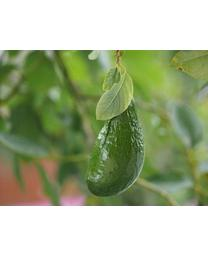avocado: (85, 95, 148, 197)
